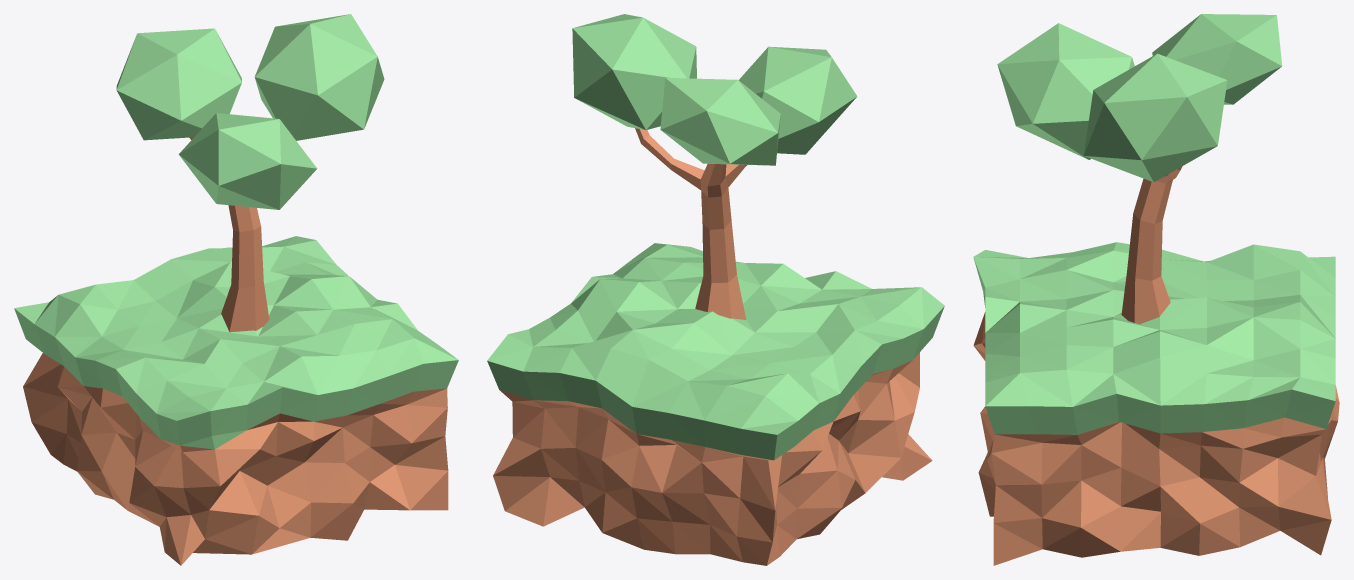
File: tree1.fbx
3 views of the same model, side by side, from view 1: azimuth 30°, elevation 25°; view 2: azimuth 150°, elevation 25°; view 3: azimuth 270°, elevation 25° (orthographic). The views are drawn at different scales.
Visible parts, largest first — view 1: Plane; view 2: Plane; view 3: Plane.
Part boxes in pixels (left/top/right/bottom): Plane: left=14, top=14, right=458, bottom=565; Plane: left=487, top=14, right=944, bottom=565; Plane: left=973, top=14, right=1339, bottom=565.
Bounding box in the file's own units: 403 × 607 × 416.
